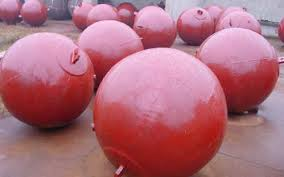buoy: (96, 47, 229, 176), (3, 34, 95, 133), (197, 29, 280, 111), (80, 22, 143, 88), (133, 6, 177, 54), (218, 10, 263, 55), (177, 7, 215, 47), (115, 2, 142, 35), (73, 1, 100, 28), (92, 4, 116, 34), (21, 1, 48, 24), (1, 1, 22, 22)
